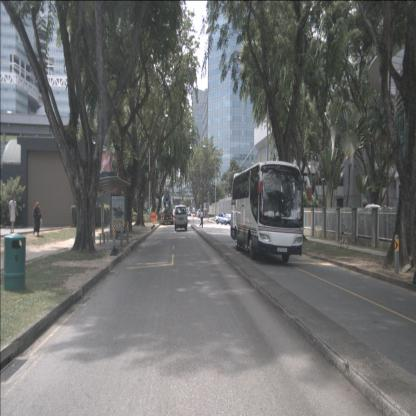human-pedestrian-adult: (9, 194, 18, 233), (33, 202, 41, 236), (199, 209, 204, 228)
vehicle-bicycle: (338, 223, 349, 250)
vehicle-bus-rigid: (231, 161, 304, 262)
vehicle-car: (174, 205, 188, 231), (214, 213, 232, 225), (196, 208, 208, 219)
